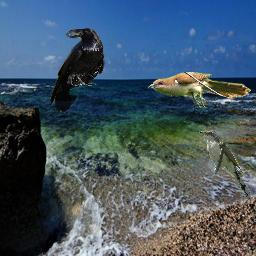Crow: (50, 28, 105, 113)
Cuckoo: (199, 130, 252, 200), (148, 72, 251, 108)
